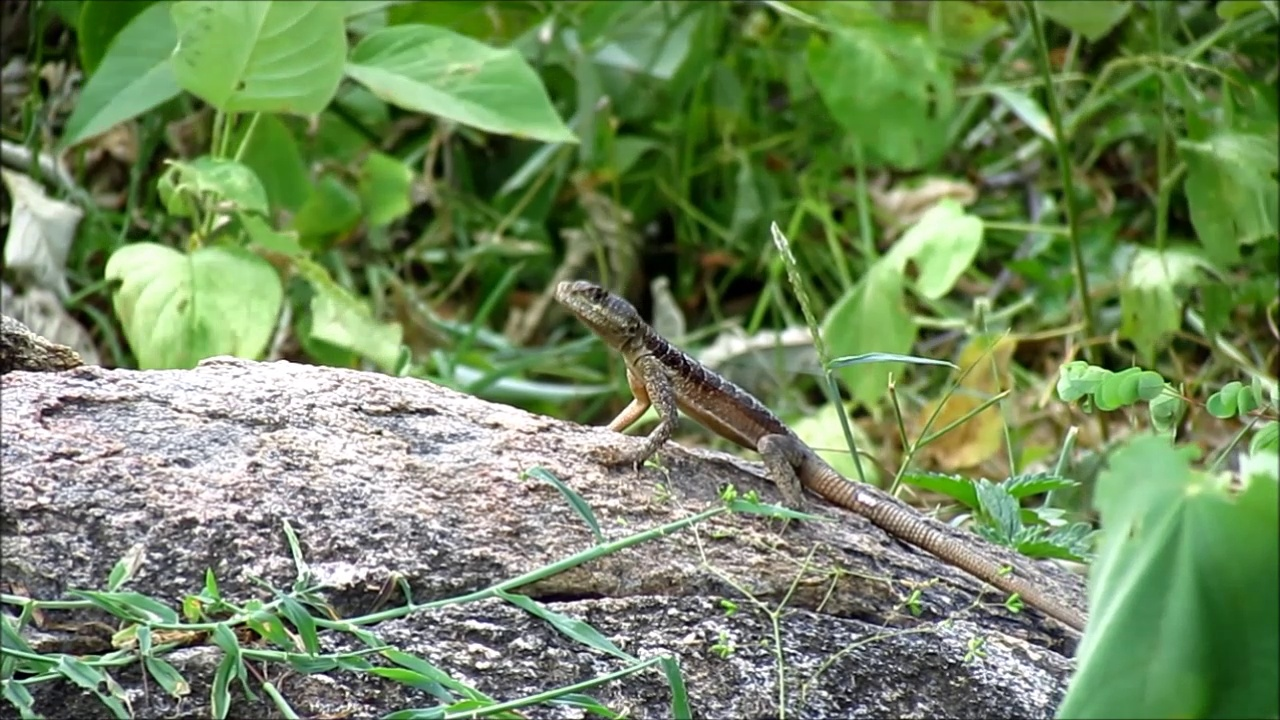body: (600, 320, 1086, 632)
head: (555, 280, 640, 342)
